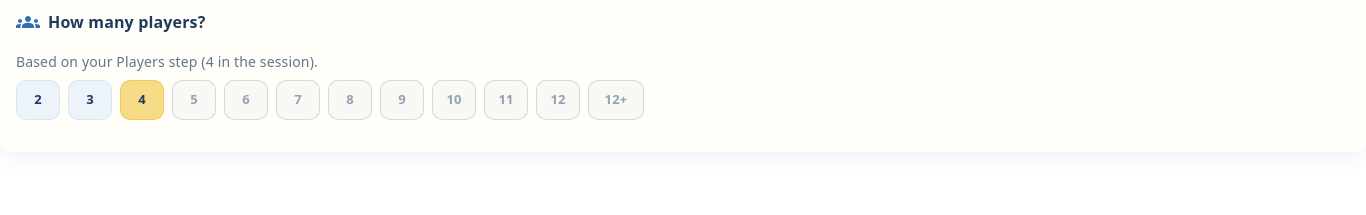
Test case: PlayerCountCard › toggles the 12+ expansion to show 13-20 chips
Expected: the text "13" is not shown
Click the button "12+" at (616, 100), box [588,80,644,120]
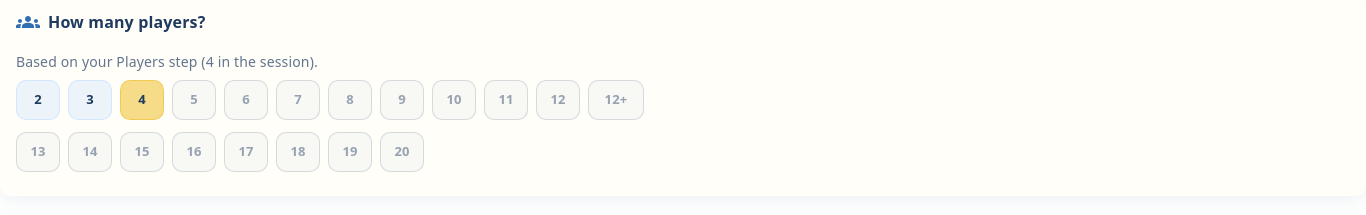
Now the button "13" is shown, box [16,132,60,172]
Now the button "20" is shown, box [380,132,424,172]
